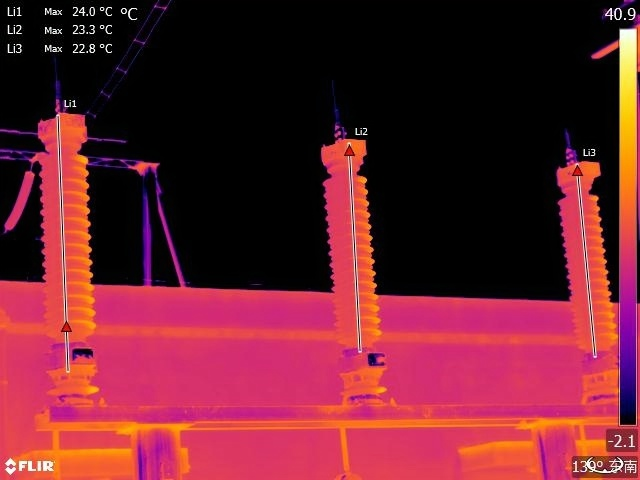insulator: (3, 162, 32, 235)
lightning arrester: (317, 118, 399, 398), (38, 99, 106, 392), (551, 139, 617, 404)
